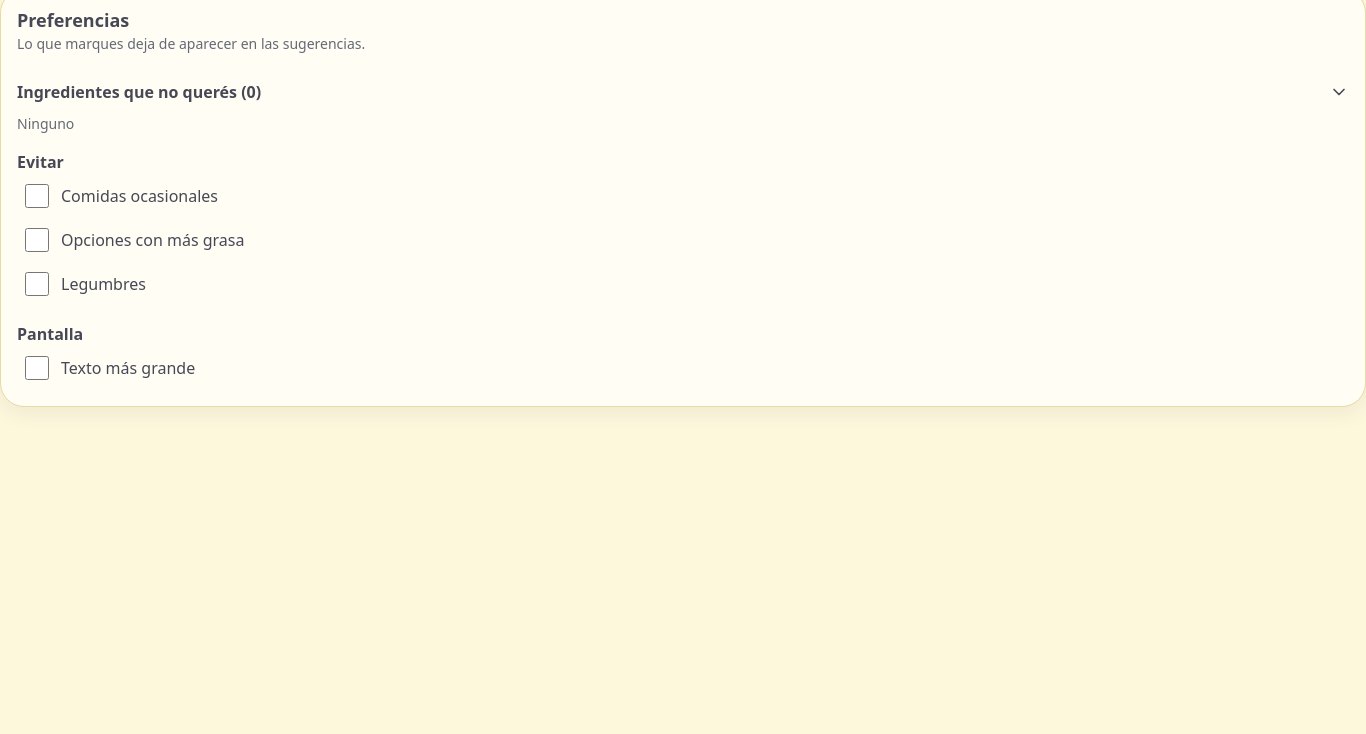
Test: excluding Bondiola de cerdo persists pork_shoulder; unchecking removes it
Expected: the field labelled "Bondiola de cerdo" is not shown
Click the button "Ingredientes que no querés (0)" at [139, 92], box left=17, top=70, right=1349, bottom=114
(page scrolled)
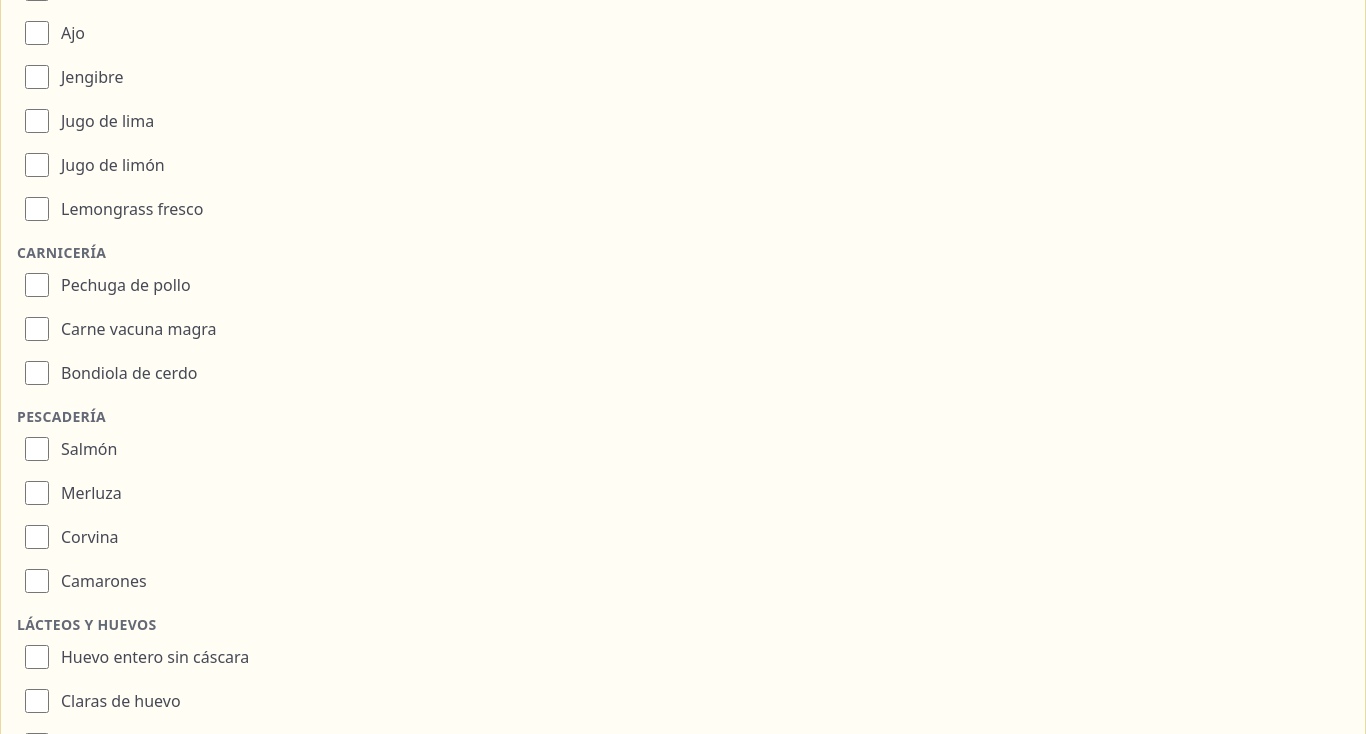
Click the checkbox labelled "Bondiola de cerdo" at [37, 373], box left=25, top=361, right=49, bottom=385
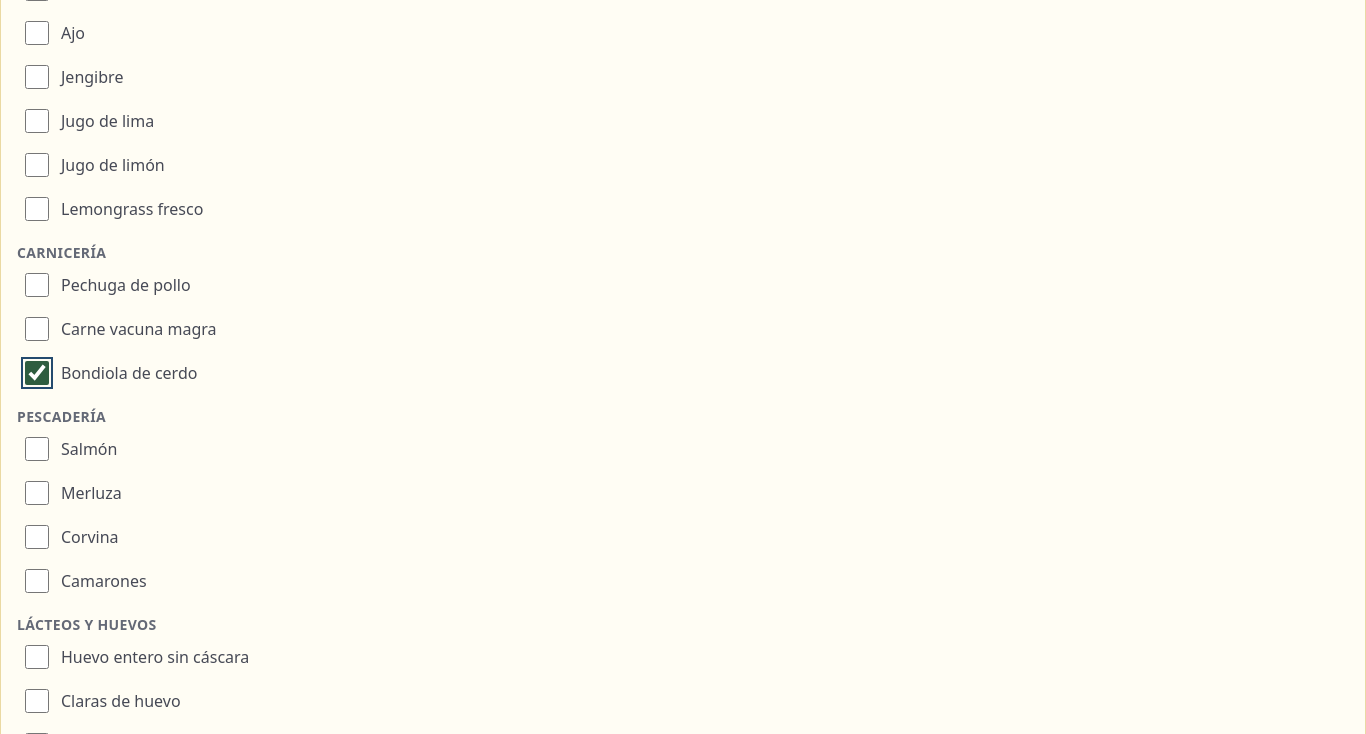
Click the checkbox labelled "Bondiola de cerdo" at [37, 373], box left=25, top=361, right=49, bottom=385
(page scrolled)
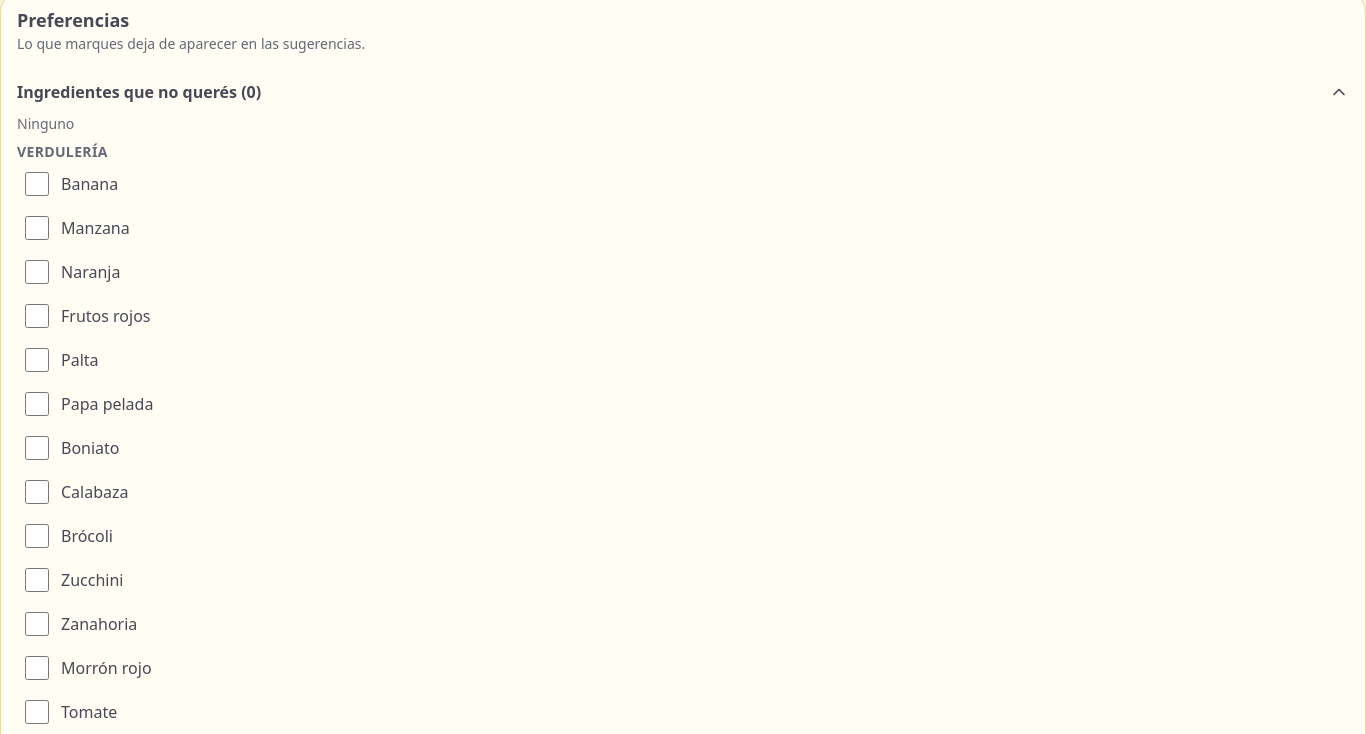
Expected: the text "Ninguno" is shown, left=17, top=114, right=74, bottom=133
